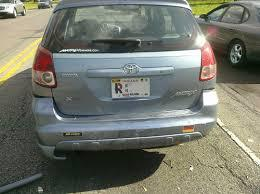rear-bumper-dent: (39, 119, 207, 156)
